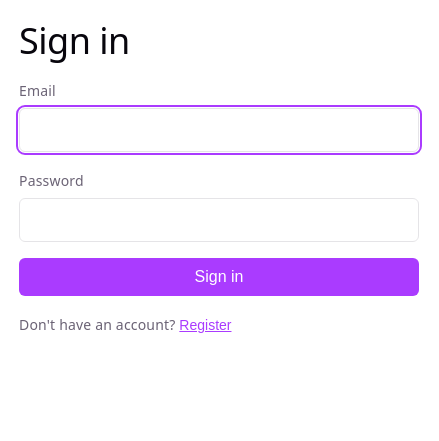
Scenario: LoginPage › toggles to register form
Click the button "Register": (205,325) [179,317,231,333]
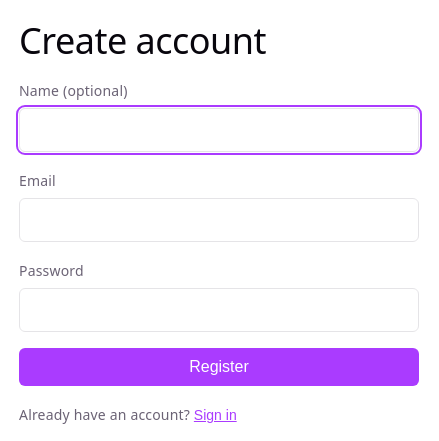
Expected: the heading "Create account" is shown, [19,16,266,65]
Expected: the button "Register" is shown, [19,348,419,386]
